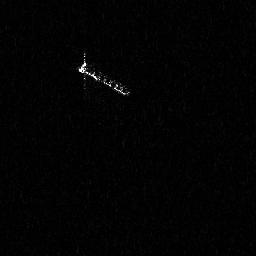ship: (71, 48, 133, 99)
